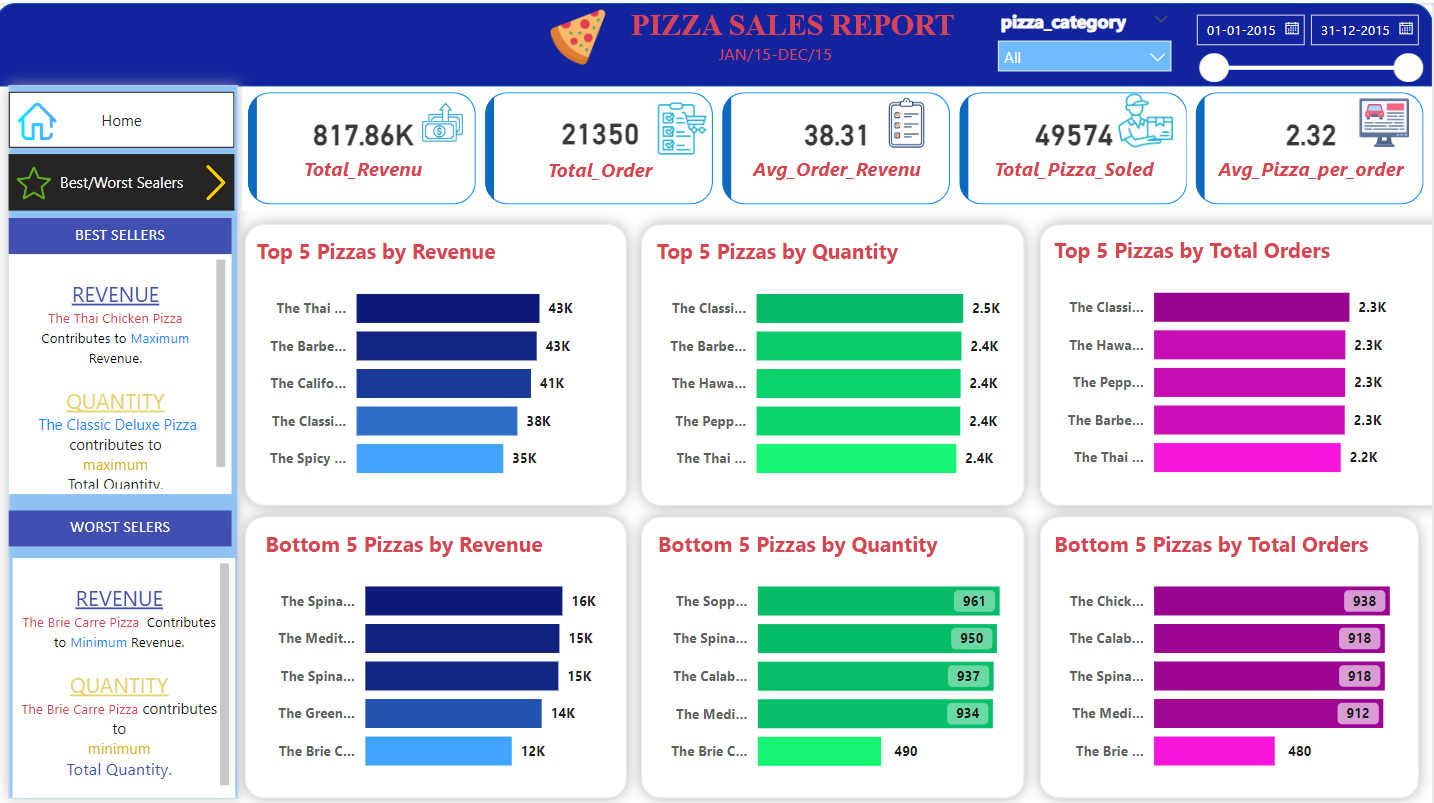

What the dashboard file says about the page in this screenshot:
{"tool":"powerbi","page":{"name":"Best/Worst Sealers","canvas":[1280,720],"ordinal":1},"visuals":[{"type":"shape","box":[0,0,1280.3,74.6],"z":0},{"type":"shape","box":[0,61.1,228.7,659.1],"z":1000},{"type":"cardVisual","fields":{"Data":["pizza_sales.Total_Revenu","pizza_sales.Total_Order","pizza_sales.Avg_Order_Revenu","pizza_sales.Total_Pizza_Soled","pizza_sales.Avg_Pizza_per_order"]},"box":[220.1,74.6,1060.2,110.1],"z":2000},{"type":"textbox","box":[479.4,0,461,47.7],"z":3000},{"type":"textbox","box":[563.7,30.6,262.9,30.6],"z":4000},{"type":"image","box":[474.5,0,89.3,61.1],"z":5000},{"type":"image","box":[782.6,79.5,58.7,55],"z":6000},{"type":"image","box":[583.3,79.5,57.5,64.8],"z":7000},{"type":"image","box":[373,79.5,51.4,55],"z":8000},{"type":"image","box":[990.5,74.6,67.3,59.9],"z":9000},{"type":"image","box":[1205.7,79.5,63.6,55],"z":10000},{"type":"shape","box":[210.3,184.6,364.4,275.1],"z":11000},{"type":"textbox","box":[12.2,192,198.1,31.8],"z":12000},{"type":"textbox","box":[12.2,223.8,198.1,214],"z":13000},{"type":"textbox","box":[15.9,494,198.1,214],"z":14000},{"type":"textbox","box":[12.2,452.4,198.1,31.8],"z":15000},{"type":"slicer","fields":{"Values":["pizza_sales.pizza_category"]},"box":[882.9,0,174.9,61.1],"z":16000},{"type":"slicer","fields":{"Values":["pizza_sales.order_date"]},"box":[1057.8,0,222.6,74.6],"z":17000},{"type":"shape","box":[563.7,184.6,365.6,275.1],"z":18000},{"type":"shape","box":[918.3,184.6,1280,275.1],"z":19000},{"type":"shape","box":[210.3,445.1,364.4,275.1],"z":20000},{"type":"shape","box":[563.7,445.1,365.6,275.1],"z":21000},{"type":"shape","box":[918.3,445.1,362,275.1],"z":22000},{"type":"barChart","title":"Top 5 Pizzas by Revenue","fields":{"Category":["pizza_sales.pizza_name"],"Y":["pizza_sales.Total_Revenu"]},"box":[228.7,207.9,324.1,229.9],"z":23000},{"type":"barChart","title":"Bottom 5 Pizzas by Revenue","fields":{"Category":["pizza_sales.pizza_name"],"Y":["pizza_sales.Total_Revenu"]},"box":[236,468.3,324.1,229.9],"z":24000},{"type":"barChart","title":"Top 5 Pizzas by Quantity","fields":{"Category":["pizza_sales.pizza_name"],"Y":["pizza_sales.Total_Pizza_Soled"]},"box":[584.5,207.9,324.1,229.9],"z":25000},{"type":"barChart","title":"Bottom 5 Pizzas by Quantity","fields":{"Category":["pizza_sales.pizza_name"],"Y":["pizza_sales.Total_Pizza_Soled"]},"box":[585.6,468.5,323.1,230.2],"z":26000},{"type":"barChart","title":"Top 5 Pizzas by Total Orders","fields":{"Category":["pizza_sales.pizza_name"],"Y":["pizza_sales.Total_Order"]},"box":[938.3,207.3,323.1,230.2],"z":27000},{"type":"barChart","title":"Bottom 5 Pizzas by Total Orders","fields":{"Category":["pizza_sales.pizza_name"],"Y":["pizza_sales.Total_Order"]},"box":[937.9,468.3,322.8,229.9],"z":28000},{"type":"pageNavigator","box":[12.2,134.5,201.8,50.1],"z":29000},{"type":"pageNavigator","box":[12.2,79.5,201.8,50.1],"z":30000},{"type":"image","box":[165.1,139.4,63.6,41.6],"z":31000},{"type":"image","box":[15.9,83.2,44,44],"z":32000},{"type":"image","box":[12.2,140.6,44,40.4],"z":33000}]}

Visuals, with their boxes in screenshot pixels (x1, y1, x2, y2), scaled from the page's 1280x720 canvas onto the 1434x803 screenshot:
shape: (left=0, top=0, right=1433, bottom=83)
shape: (left=0, top=68, right=256, bottom=802)
cardVisual - pizza_sales.Total_Revenu x pizza_sales.Total_Order: (left=247, top=83, right=1433, bottom=206)
textbox: (left=537, top=0, right=1054, bottom=53)
textbox: (left=632, top=34, right=926, bottom=68)
image: (left=532, top=0, right=632, bottom=68)
image: (left=877, top=89, right=943, bottom=150)
image: (left=653, top=89, right=718, bottom=161)
image: (left=418, top=89, right=475, bottom=150)
image: (left=1110, top=83, right=1185, bottom=150)
image: (left=1351, top=89, right=1422, bottom=150)
shape: (left=236, top=206, right=644, bottom=513)
textbox: (left=14, top=214, right=236, bottom=250)
textbox: (left=14, top=250, right=236, bottom=488)
textbox: (left=18, top=551, right=240, bottom=790)
textbox: (left=14, top=505, right=236, bottom=540)
slicer - pizza_sales.pizza_category: (left=989, top=0, right=1185, bottom=68)
slicer - pizza_sales.order_date: (left=1185, top=0, right=1433, bottom=83)
shape: (left=632, top=206, right=1041, bottom=513)
shape: (left=1029, top=206, right=1433, bottom=513)
shape: (left=236, top=496, right=644, bottom=802)
shape: (left=632, top=496, right=1041, bottom=802)
shape: (left=1029, top=496, right=1433, bottom=802)
"Top 5 Pizzas by Revenue" barChart: (left=256, top=232, right=619, bottom=488)
"Bottom 5 Pizzas by Revenue" barChart: (left=264, top=522, right=627, bottom=779)
"Top 5 Pizzas by Quantity" barChart: (left=655, top=232, right=1018, bottom=488)
"Bottom 5 Pizzas by Quantity" barChart: (left=656, top=523, right=1018, bottom=779)
"Top 5 Pizzas by Total Orders" barChart: (left=1051, top=231, right=1413, bottom=488)
"Bottom 5 Pizzas by Total Orders" barChart: (left=1051, top=522, right=1412, bottom=779)
pageNavigator: (left=14, top=150, right=240, bottom=206)
pageNavigator: (left=14, top=89, right=240, bottom=145)
image: (left=185, top=155, right=256, bottom=202)
image: (left=18, top=93, right=67, bottom=142)
image: (left=14, top=157, right=63, bottom=202)
